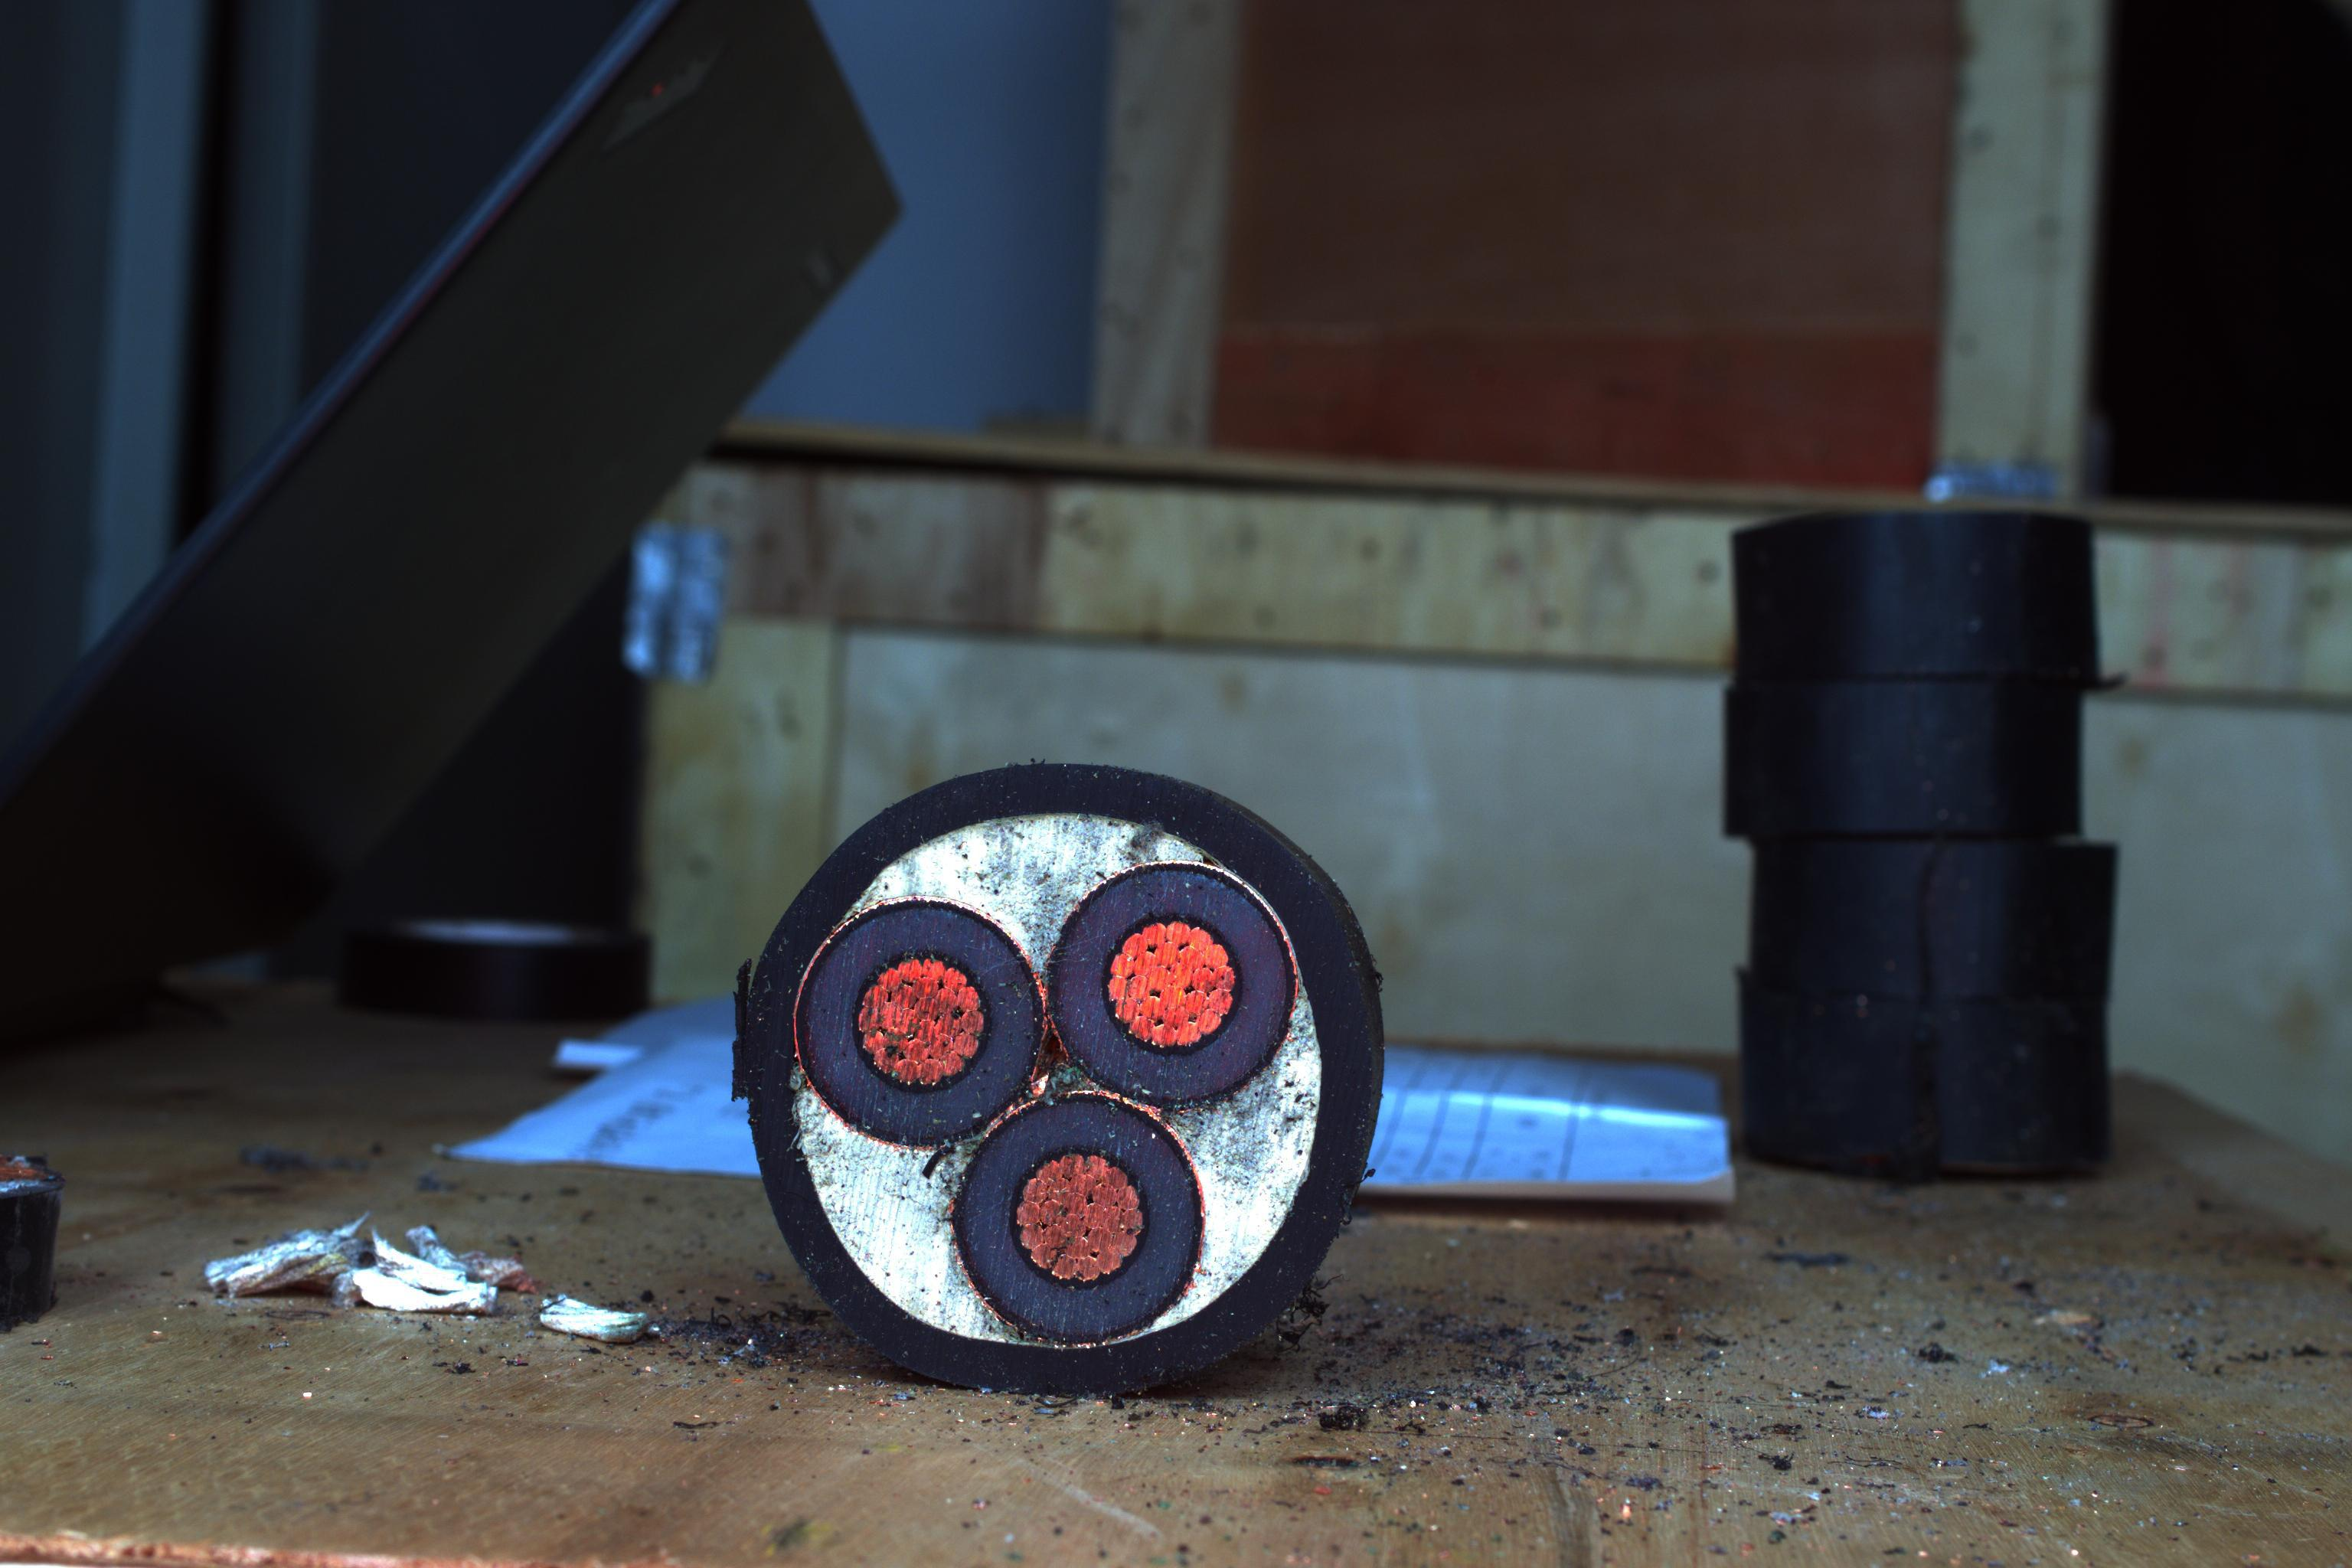ZA_YJV_8.7_10kV_3x120: (730, 756, 1344, 1377)
